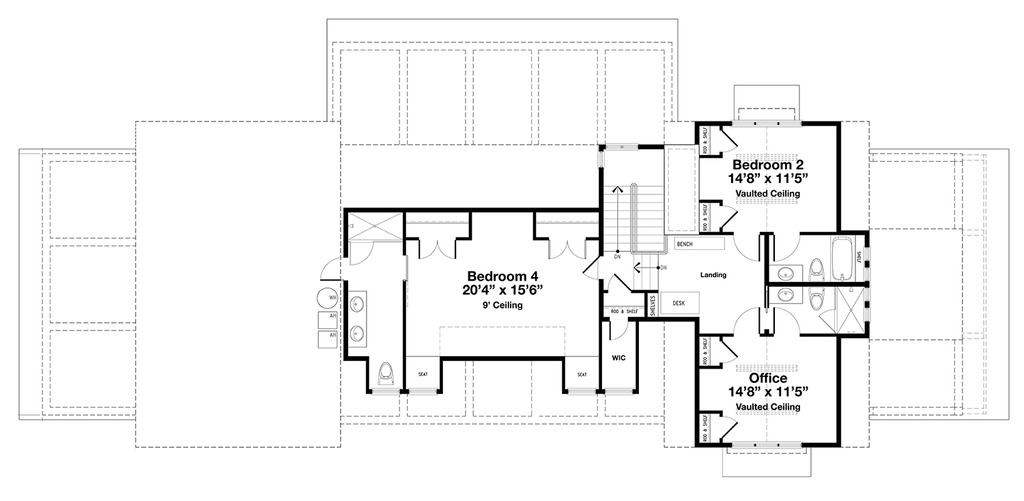door: (545, 236, 589, 263), (414, 237, 458, 261), (731, 306, 764, 336), (730, 232, 761, 263), (769, 231, 801, 259), (348, 239, 374, 269), (316, 254, 342, 283), (607, 316, 630, 344), (715, 129, 739, 155), (604, 272, 630, 295), (720, 201, 737, 233), (720, 412, 738, 439), (718, 338, 735, 364)
large_sink: (371, 359, 399, 386), (805, 285, 825, 311), (806, 259, 825, 281)
small_sink: (347, 289, 369, 348), (764, 284, 805, 306), (767, 265, 805, 284)
stairs: (600, 179, 669, 258)
tub: (827, 235, 857, 281)
windows: (729, 118, 802, 131)
